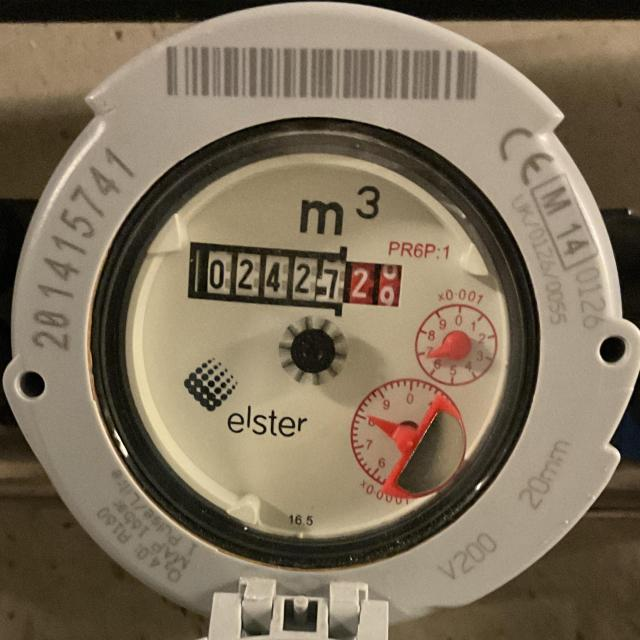gaz_meter: (126, 152, 511, 539)
indication: (189, 244, 403, 314)
